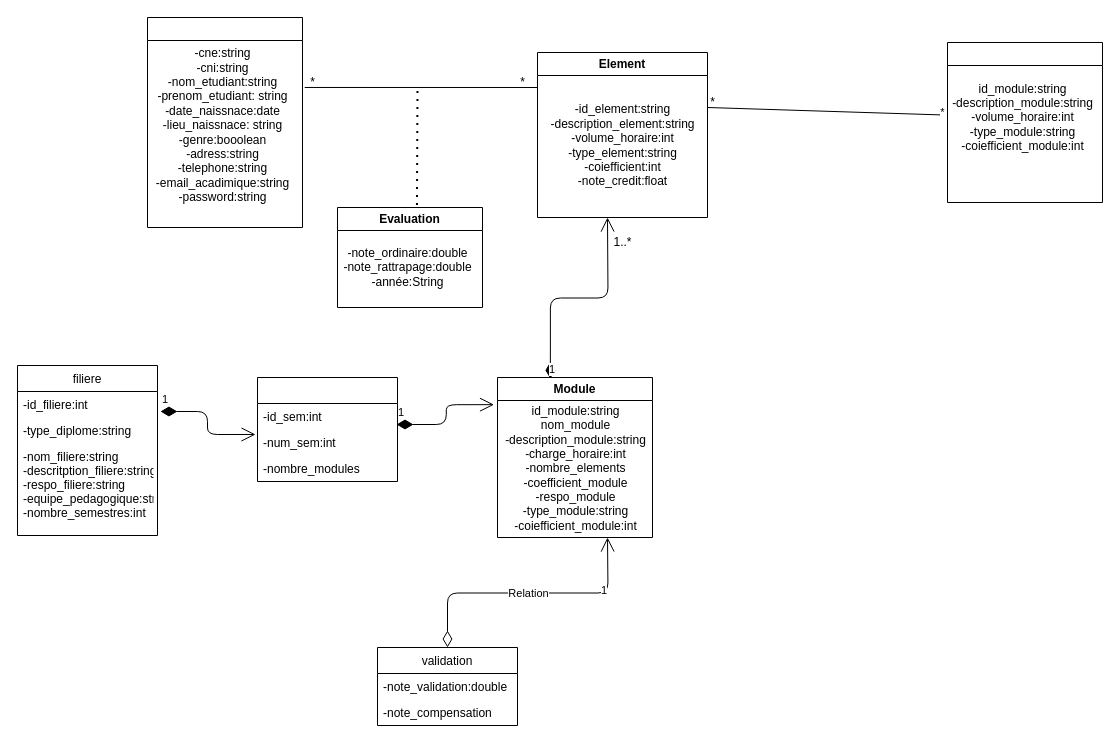
The diagram is 1120 pixels wide and 746 high, and some of its shapes have lost their labels. Here are the shapes that lost their labels. From the top down, the box of each, then its label:
(146, 16, 302, 228): Student
(946, 42, 1102, 202): professseur
(256, 376, 398, 482): semetre
